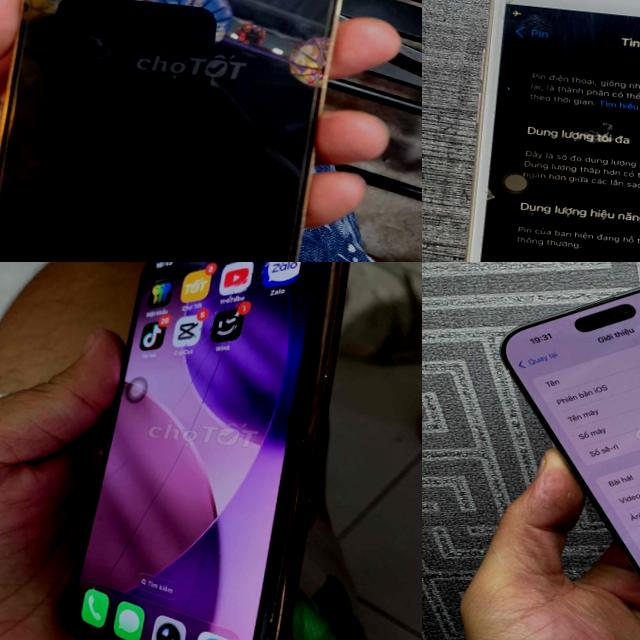gen_11: (45, 262, 367, 640)
gen_12_13: (0, 0, 371, 262)
gen_16: (500, 287, 640, 576)
gen_7_8: (432, 0, 640, 262)
physical_damage: (86, 262, 335, 640), (472, 168, 550, 224)
scratch: (242, 571, 291, 640)
